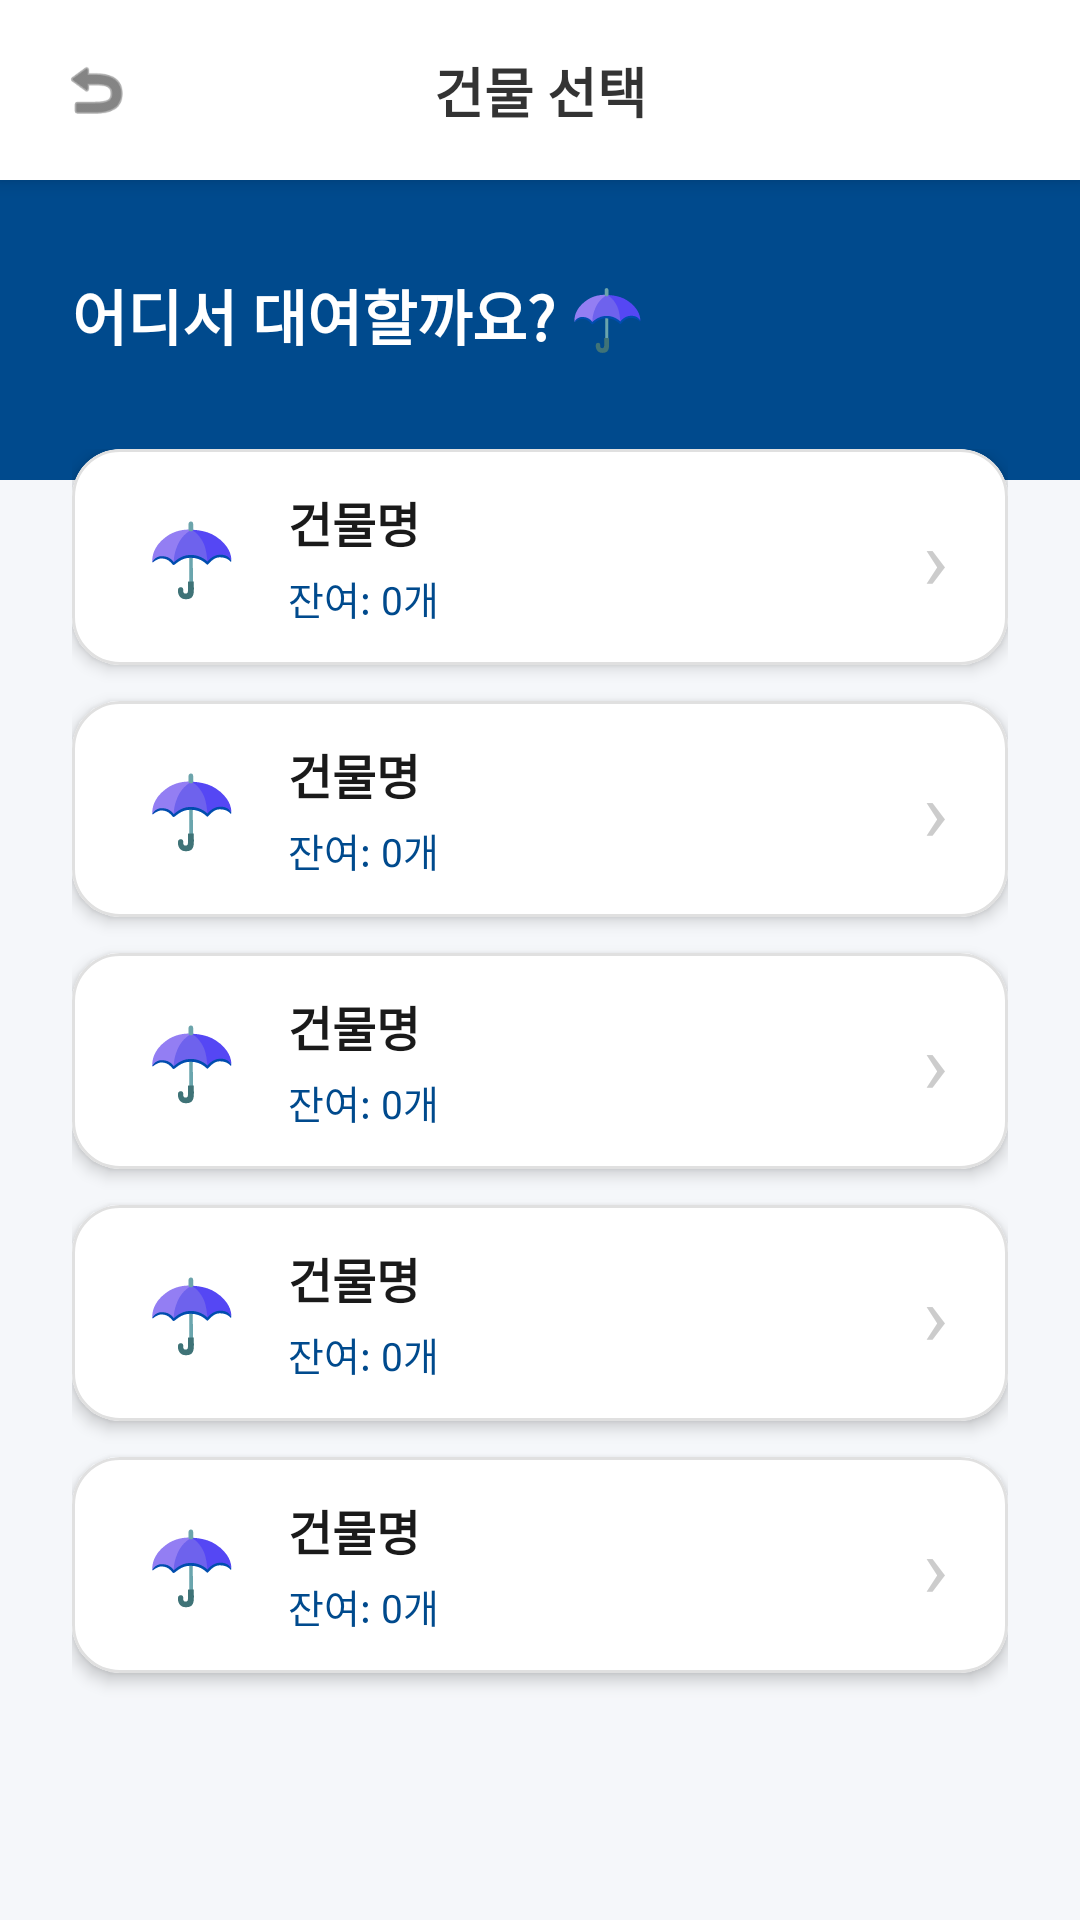

Locate icon controls on the screen. Image size 1080w x 1920h, boxes as (x1, y1, x2, y2).
revert: (71, 67, 123, 114)
